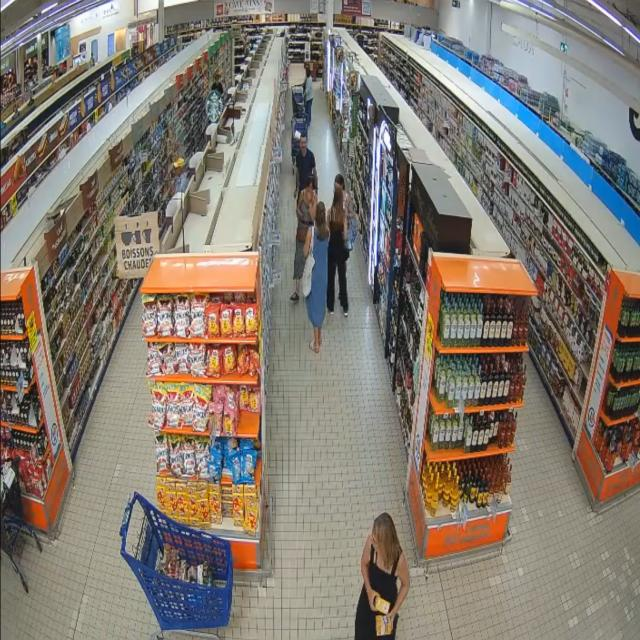article: (374, 596, 390, 616), (375, 616, 391, 635)
bags: (302, 229, 314, 297), (345, 218, 357, 252)
hands: (368, 589, 378, 611), (388, 606, 398, 620), (307, 192, 313, 207), (294, 187, 298, 199)
person: (356, 513, 409, 639), (304, 194, 329, 352), (291, 176, 316, 301), (327, 186, 348, 316), (335, 174, 357, 244), (295, 136, 317, 196), (304, 66, 313, 126)
